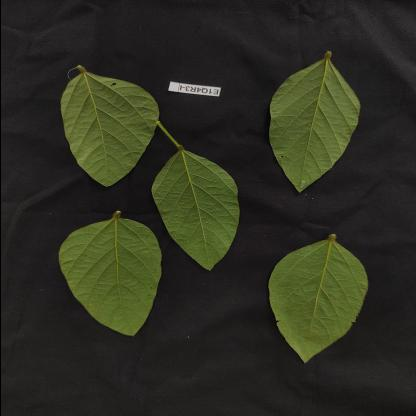label: (158, 76, 232, 96)
leaflets: (255, 50, 366, 200), (30, 53, 156, 183), (268, 226, 366, 376), (57, 206, 156, 346), (157, 128, 245, 266)
